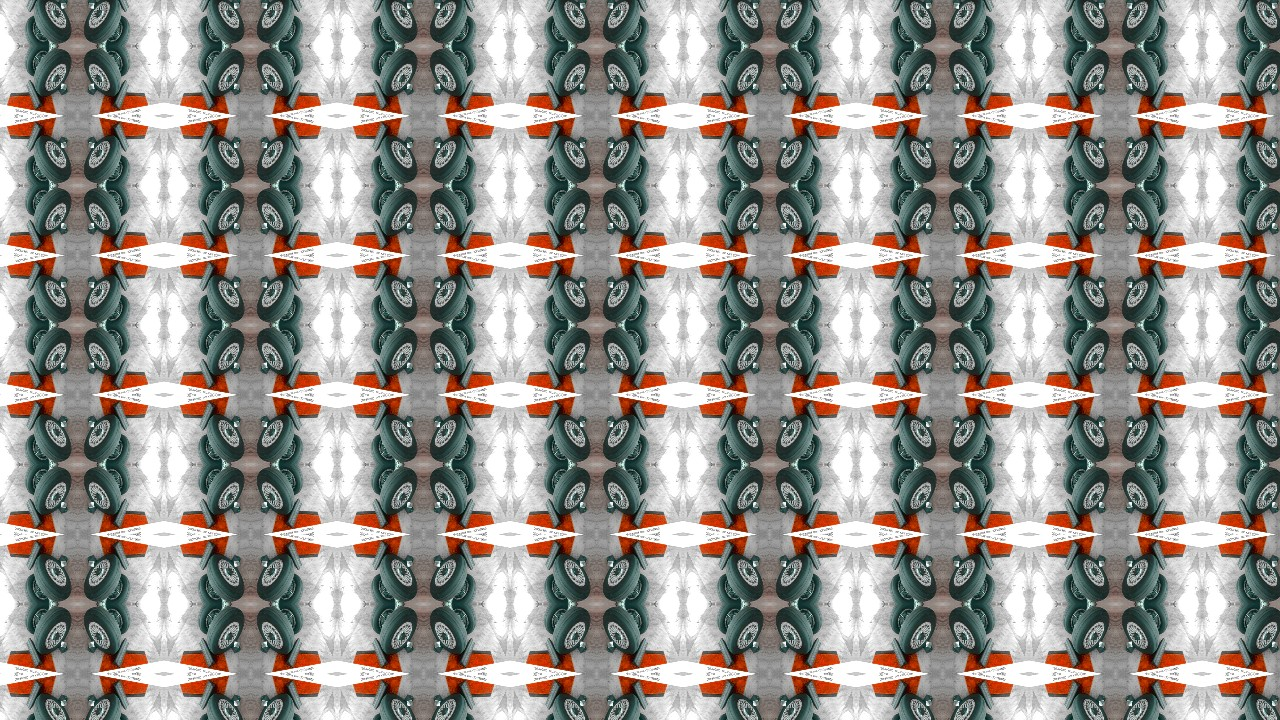chock: (20, 78, 45, 110), (107, 78, 132, 110), (194, 78, 219, 110), (280, 78, 305, 110), (367, 78, 392, 110), (454, 78, 479, 110), (541, 78, 566, 110), (627, 78, 652, 110), (714, 78, 739, 110), (801, 78, 826, 110), (888, 78, 913, 110), (974, 78, 999, 110), (1061, 78, 1086, 110), (1148, 78, 1173, 110), (1235, 78, 1260, 110), (20, 120, 45, 152), (107, 120, 132, 152), (194, 120, 219, 152), (280, 120, 305, 152), (367, 120, 392, 152), (454, 120, 479, 152), (541, 120, 566, 152), (627, 120, 652, 152), (714, 120, 739, 152), (801, 120, 826, 152), (888, 120, 913, 152), (974, 120, 999, 152), (1061, 120, 1086, 152), (1148, 120, 1173, 152), (1235, 120, 1260, 152), (20, 218, 45, 250), (107, 218, 132, 250), (194, 218, 219, 250), (280, 218, 305, 250), (367, 218, 392, 250), (454, 218, 479, 250), (541, 218, 566, 250), (627, 218, 652, 250), (714, 218, 739, 250), (801, 218, 826, 250), (888, 218, 913, 250), (974, 218, 999, 250), (1061, 218, 1086, 250), (1148, 218, 1173, 250), (1235, 218, 1260, 250), (20, 260, 45, 292), (107, 260, 132, 292), (194, 260, 219, 292), (280, 260, 305, 292), (367, 260, 392, 292), (454, 260, 479, 292), (541, 260, 566, 292), (627, 260, 652, 292), (714, 260, 739, 292), (801, 260, 826, 292), (888, 260, 913, 292), (974, 260, 999, 292), (1061, 260, 1086, 292), (1148, 260, 1173, 292), (1235, 260, 1260, 292), (20, 358, 45, 390), (107, 358, 132, 390), (194, 358, 219, 390), (280, 358, 305, 390), (367, 358, 392, 390), (454, 358, 479, 390), (541, 358, 566, 390), (627, 358, 652, 390), (714, 358, 739, 390), (801, 358, 826, 390), (888, 358, 913, 390), (974, 358, 999, 390), (1061, 358, 1086, 390), (1148, 358, 1173, 390), (1235, 358, 1260, 390), (20, 400, 45, 432), (107, 400, 132, 432), (194, 400, 219, 432), (280, 400, 305, 432), (367, 400, 392, 432), (454, 400, 479, 432), (541, 400, 566, 432), (627, 400, 652, 432), (714, 400, 739, 432), (801, 400, 826, 432), (888, 400, 913, 432), (974, 400, 999, 432), (1061, 400, 1086, 432), (1148, 400, 1173, 432), (1235, 400, 1260, 432), (20, 498, 45, 530), (107, 498, 132, 530), (194, 498, 219, 530), (280, 498, 305, 530), (367, 498, 392, 530), (454, 498, 479, 530), (541, 498, 566, 530), (627, 498, 652, 530), (714, 498, 739, 530), (801, 498, 826, 530), (888, 498, 913, 530), (974, 498, 999, 530), (1061, 498, 1086, 530), (1148, 498, 1173, 530), (1235, 498, 1260, 530), (20, 540, 45, 572), (107, 540, 132, 572), (194, 540, 219, 572), (280, 540, 305, 572), (367, 540, 392, 572), (454, 540, 479, 572), (541, 540, 566, 572), (627, 540, 652, 572), (714, 540, 739, 572), (801, 540, 826, 572), (888, 540, 913, 572), (974, 540, 999, 572), (1061, 540, 1086, 572), (1148, 540, 1173, 572), (1235, 540, 1260, 572), (20, 638, 45, 670), (107, 638, 132, 670), (194, 638, 219, 670), (280, 638, 305, 670), (367, 638, 392, 670), (454, 638, 479, 670), (541, 638, 566, 670), (627, 638, 652, 670), (714, 638, 739, 670), (801, 638, 826, 670), (888, 638, 913, 670), (974, 638, 999, 670), (1061, 638, 1086, 670), (1148, 638, 1173, 670), (1235, 638, 1260, 670), (20, 680, 45, 712), (107, 680, 132, 712), (194, 680, 219, 712), (280, 680, 305, 712), (367, 680, 392, 712), (454, 680, 479, 712), (541, 680, 566, 712), (627, 680, 652, 712), (714, 680, 739, 712), (801, 680, 826, 712), (888, 680, 913, 712), (974, 680, 999, 712), (1061, 680, 1086, 712), (1148, 680, 1173, 712), (1235, 680, 1260, 712), (20, 0, 45, 12), (107, 0, 132, 12), (194, 0, 219, 12), (280, 0, 305, 12), (367, 0, 392, 12), (454, 0, 479, 12), (541, 0, 566, 12), (627, 0, 652, 12), (714, 0, 739, 12), (801, 0, 826, 12), (888, 0, 913, 12), (974, 0, 999, 12), (1061, 0, 1086, 12), (1148, 0, 1173, 12), (1235, 0, 1260, 12), (51, 79, 68, 95), (84, 79, 101, 95), (398, 79, 415, 95), (431, 79, 448, 95), (745, 79, 762, 95), (778, 79, 795, 95), (1092, 79, 1109, 95), (1125, 79, 1142, 95), (51, 135, 68, 151), (84, 135, 101, 151), (398, 135, 415, 151), (431, 135, 448, 151), (745, 135, 762, 151), (778, 135, 795, 151), (1092, 135, 1109, 151), (1125, 135, 1142, 151), (51, 219, 68, 235), (84, 219, 101, 235), (398, 219, 415, 235), (431, 219, 448, 235), (745, 219, 762, 235), (778, 219, 795, 235), (1092, 219, 1109, 235), (1125, 219, 1142, 235), (51, 275, 68, 291), (84, 275, 101, 291), (398, 275, 415, 291), (431, 275, 448, 291), (745, 275, 762, 291), (778, 275, 795, 291), (1092, 275, 1109, 291), (1125, 275, 1142, 291), (51, 359, 68, 375), (84, 359, 101, 375), (398, 359, 415, 375), (431, 359, 448, 375), (745, 359, 762, 375), (778, 359, 795, 375), (1092, 359, 1109, 375), (1125, 359, 1142, 375), (51, 415, 68, 431), (84, 415, 101, 431), (398, 415, 415, 431), (431, 415, 448, 431), (745, 415, 762, 431), (778, 415, 795, 431), (1092, 415, 1109, 431), (1125, 415, 1142, 431), (51, 499, 68, 515), (84, 499, 101, 515), (398, 499, 415, 515), (431, 499, 448, 515), (745, 499, 762, 515), (778, 499, 795, 515), (1092, 499, 1109, 515), (1125, 499, 1142, 515), (51, 555, 68, 571), (84, 555, 101, 571), (398, 555, 415, 571), (431, 555, 448, 571), (745, 555, 762, 571), (778, 555, 795, 571), (1092, 555, 1109, 571), (1125, 555, 1142, 571), (51, 639, 68, 655), (84, 639, 101, 655), (398, 639, 415, 655), (431, 639, 448, 655), (745, 639, 762, 655), (778, 639, 795, 655), (1092, 639, 1109, 655), (1125, 639, 1142, 655), (51, 695, 68, 711), (84, 695, 101, 711), (398, 695, 415, 711), (431, 695, 448, 711), (745, 695, 762, 711), (778, 695, 795, 711), (1092, 695, 1109, 711), (1125, 695, 1142, 711), (225, 79, 241, 95), (258, 79, 274, 95), (572, 79, 588, 95), (605, 79, 621, 95), (919, 79, 935, 95), (952, 79, 968, 95), (225, 135, 241, 151), (258, 135, 274, 151), (572, 135, 588, 151), (605, 135, 621, 151), (919, 135, 935, 151), (952, 135, 968, 151), (225, 219, 241, 235), (258, 219, 274, 235), (572, 219, 588, 235), (605, 219, 621, 235), (919, 219, 935, 235), (952, 219, 968, 235), (225, 275, 241, 291), (258, 275, 274, 291), (572, 275, 588, 291), (605, 275, 621, 291), (919, 275, 935, 291), (952, 275, 968, 291), (225, 359, 241, 375), (258, 359, 274, 375), (572, 359, 588, 375), (605, 359, 621, 375), (919, 359, 935, 375), (952, 359, 968, 375), (225, 415, 241, 431), (258, 415, 274, 431), (572, 415, 588, 431), (605, 415, 621, 431), (919, 415, 935, 431), (952, 415, 968, 431), (225, 499, 241, 515), (258, 499, 274, 515), (572, 499, 588, 515), (605, 499, 621, 515), (919, 499, 935, 515), (952, 499, 968, 515), (225, 555, 241, 571), (258, 555, 274, 571), (572, 555, 588, 571), (605, 555, 621, 571), (919, 555, 935, 571), (952, 555, 968, 571), (225, 639, 241, 655), (258, 639, 274, 655), (572, 639, 588, 655), (605, 639, 621, 655), (919, 639, 935, 655), (952, 639, 968, 655), (225, 695, 241, 711), (258, 695, 274, 711), (572, 695, 588, 711), (605, 695, 621, 711), (919, 695, 935, 711), (952, 695, 968, 711), (1266, 79, 1280, 95), (1266, 135, 1280, 151), (1266, 219, 1280, 235), (1266, 275, 1280, 291), (1266, 359, 1280, 375), (1266, 415, 1280, 431), (1266, 499, 1280, 515), (1266, 555, 1280, 571), (1266, 639, 1280, 655), (1266, 695, 1280, 711), (51, 0, 68, 11), (84, 0, 101, 11), (398, 0, 415, 11), (431, 0, 448, 11), (745, 0, 762, 11), (778, 0, 795, 11), (1092, 0, 1109, 11), (1125, 0, 1142, 11), (225, 0, 241, 11), (258, 0, 274, 11), (572, 0, 588, 11), (605, 0, 621, 11), (919, 0, 935, 11), (952, 0, 968, 11), (1266, 0, 1280, 11), (232, 1, 239, 8), (260, 1, 267, 8), (579, 1, 586, 8), (607, 1, 614, 8), (926, 1, 933, 8), (954, 1, 961, 8), (1273, 1, 1280, 8), (232, 82, 239, 89), (260, 82, 267, 89), (579, 82, 586, 89), (607, 82, 614, 89), (926, 82, 933, 89), (954, 82, 961, 89), (1273, 82, 1280, 89), (232, 141, 239, 148), (260, 141, 267, 148), (579, 141, 586, 148), (607, 141, 614, 148), (926, 141, 933, 148), (954, 141, 961, 148), (1273, 141, 1280, 148), (232, 222, 239, 229), (260, 222, 267, 229), (579, 222, 586, 229), (607, 222, 614, 229), (926, 222, 933, 229), (954, 222, 961, 229), (1273, 222, 1280, 229), (232, 281, 239, 288), (260, 281, 267, 288), (579, 281, 586, 288), (607, 281, 614, 288), (926, 281, 933, 288), (954, 281, 961, 288), (1273, 281, 1280, 288), (232, 362, 239, 369), (260, 362, 267, 369), (579, 362, 586, 369), (607, 362, 614, 369), (926, 362, 933, 369), (954, 362, 961, 369), (1273, 362, 1280, 369), (232, 421, 239, 428), (260, 421, 267, 428), (579, 421, 586, 428), (607, 421, 614, 428), (926, 421, 933, 428), (954, 421, 961, 428), (1273, 421, 1280, 428), (232, 502, 239, 509), (260, 502, 267, 509), (579, 502, 586, 509), (607, 502, 614, 509), (926, 502, 933, 509), (954, 502, 961, 509), (1273, 502, 1280, 509), (232, 561, 239, 568), (260, 561, 267, 568), (579, 561, 586, 568), (607, 561, 614, 568), (926, 561, 933, 568), (954, 561, 961, 568), (1273, 561, 1280, 568), (232, 642, 239, 649), (260, 642, 267, 649), (579, 642, 586, 649), (607, 642, 614, 649), (926, 642, 933, 649), (954, 642, 961, 649), (1273, 642, 1280, 649), (232, 701, 239, 708), (260, 701, 267, 708), (579, 701, 586, 708), (607, 701, 614, 708), (926, 701, 933, 708), (954, 701, 961, 708), (1273, 701, 1280, 708), (59, 1, 65, 8), (87, 1, 93, 8), (406, 1, 412, 8), (434, 1, 440, 8), (753, 1, 759, 8), (781, 1, 787, 8), (1100, 1, 1106, 8), (1128, 1, 1134, 8), (59, 82, 65, 89), (87, 82, 93, 89), (406, 82, 412, 89), (434, 82, 440, 89), (753, 82, 759, 89), (781, 82, 787, 89), (1100, 82, 1106, 89), (1128, 82, 1134, 89), (59, 141, 65, 148), (87, 141, 93, 148), (406, 141, 412, 148), (434, 141, 440, 148), (753, 141, 759, 148), (781, 141, 787, 148), (1100, 141, 1106, 148), (1128, 141, 1134, 148), (59, 222, 65, 229), (87, 222, 93, 229), (406, 222, 412, 229), (434, 222, 440, 229), (753, 222, 759, 229), (781, 222, 787, 229), (1100, 222, 1106, 229), (1128, 222, 1134, 229), (59, 281, 65, 288), (87, 281, 93, 288), (406, 281, 412, 288), (434, 281, 440, 288), (753, 281, 759, 288), (781, 281, 787, 288), (1100, 281, 1106, 288), (1128, 281, 1134, 288), (59, 362, 65, 369), (87, 362, 93, 369), (406, 362, 412, 369), (434, 362, 440, 369), (753, 362, 759, 369), (781, 362, 787, 369), (1100, 362, 1106, 369), (1128, 362, 1134, 369), (59, 421, 65, 428), (87, 421, 93, 428), (406, 421, 412, 428), (434, 421, 440, 428), (753, 421, 759, 428), (781, 421, 787, 428), (1100, 421, 1106, 428), (1128, 421, 1134, 428), (59, 502, 65, 509), (87, 502, 93, 509), (406, 502, 412, 509), (434, 502, 440, 509), (753, 502, 759, 509), (781, 502, 787, 509), (1100, 502, 1106, 509), (1128, 502, 1134, 509), (59, 561, 65, 568), (87, 561, 93, 568), (406, 561, 412, 568), (434, 561, 440, 568), (753, 561, 759, 568), (781, 561, 787, 568), (1100, 561, 1106, 568), (1128, 561, 1134, 568), (59, 642, 65, 649), (87, 642, 93, 649), (406, 642, 412, 649), (434, 642, 440, 649), (753, 642, 759, 649), (781, 642, 787, 649), (1100, 642, 1106, 649), (1128, 642, 1134, 649), (59, 701, 65, 708), (87, 701, 93, 708), (406, 701, 412, 708), (434, 701, 440, 708), (753, 701, 759, 708), (781, 701, 787, 708), (1100, 701, 1106, 708), (1128, 701, 1134, 708)
wheel: (204, 45, 246, 99), (253, 45, 295, 99), (551, 45, 593, 99), (600, 45, 642, 99), (898, 45, 940, 99), (947, 45, 989, 99), (204, 131, 246, 185), (253, 131, 295, 185), (551, 131, 593, 185), (600, 131, 642, 185), (898, 131, 940, 185), (947, 131, 989, 185), (204, 185, 246, 239), (253, 185, 295, 239), (551, 185, 593, 239), (600, 185, 642, 239), (898, 185, 940, 239), (947, 185, 989, 239), (204, 271, 246, 325), (253, 271, 295, 325), (551, 271, 593, 325), (600, 271, 642, 325), (898, 271, 940, 325), (947, 271, 989, 325), (204, 325, 246, 379), (253, 325, 295, 379), (551, 325, 593, 379), (600, 325, 642, 379), (898, 325, 940, 379), (947, 325, 989, 379), (204, 411, 246, 465), (253, 411, 295, 465), (551, 411, 593, 465), (600, 411, 642, 465), (898, 411, 940, 465), (947, 411, 989, 465), (204, 465, 246, 519), (253, 465, 295, 519), (551, 465, 593, 519), (600, 465, 642, 519), (898, 465, 940, 519), (947, 465, 989, 519), (204, 551, 246, 605), (253, 551, 295, 605), (551, 551, 593, 605), (600, 551, 642, 605), (898, 551, 940, 605), (947, 551, 989, 605), (204, 605, 246, 659), (253, 605, 295, 659), (551, 605, 593, 659), (600, 605, 642, 659), (898, 605, 940, 659), (947, 605, 989, 659), (31, 45, 72, 99), (80, 45, 121, 99), (378, 45, 419, 99), (427, 45, 468, 99), (725, 45, 766, 99), (774, 45, 815, 99), (1072, 45, 1113, 99), (1121, 45, 1162, 99), (31, 131, 72, 185), (80, 131, 121, 185), (378, 131, 419, 185), (427, 131, 468, 185), (725, 131, 766, 185), (774, 131, 815, 185), (1072, 131, 1113, 185), (1121, 131, 1162, 185), (31, 185, 72, 239), (80, 185, 121, 239), (378, 185, 419, 239), (427, 185, 468, 239), (725, 185, 766, 239), (774, 185, 815, 239), (1072, 185, 1113, 239), (1121, 185, 1162, 239), (31, 271, 72, 325), (80, 271, 121, 325), (378, 271, 419, 325), (427, 271, 468, 325), (725, 271, 766, 325), (774, 271, 815, 325), (1072, 271, 1113, 325), (1121, 271, 1162, 325), (31, 325, 72, 379), (80, 325, 121, 379), (378, 325, 419, 379), (427, 325, 468, 379), (725, 325, 766, 379), (774, 325, 815, 379), (1072, 325, 1113, 379), (1121, 325, 1162, 379), (31, 411, 72, 465), (80, 411, 121, 465), (378, 411, 419, 465), (427, 411, 468, 465), (725, 411, 766, 465), (774, 411, 815, 465), (1072, 411, 1113, 465), (1121, 411, 1162, 465), (31, 465, 72, 519), (80, 465, 121, 519), (378, 465, 419, 519), (427, 465, 468, 519), (725, 465, 766, 519), (774, 465, 815, 519), (1072, 465, 1113, 519), (1121, 465, 1162, 519), (31, 551, 72, 605), (80, 551, 121, 605), (378, 551, 419, 605), (427, 551, 468, 605), (725, 551, 766, 605), (774, 551, 815, 605), (1072, 551, 1113, 605), (1121, 551, 1162, 605), (31, 605, 72, 659), (80, 605, 121, 659), (378, 605, 419, 659), (427, 605, 468, 659), (725, 605, 766, 659), (774, 605, 815, 659), (1072, 605, 1113, 659), (1121, 605, 1162, 659), (204, 0, 246, 45), (253, 0, 295, 45), (551, 0, 593, 45), (600, 0, 642, 45), (898, 0, 940, 45), (947, 0, 989, 45), (1245, 45, 1280, 99), (1245, 131, 1280, 185), (1245, 185, 1280, 239), (1245, 271, 1280, 325), (1245, 325, 1280, 379), (1245, 411, 1280, 465), (1245, 465, 1280, 519), (1245, 551, 1280, 605), (1245, 605, 1280, 659), (31, 0, 72, 45), (80, 0, 121, 45), (378, 0, 419, 45), (427, 0, 468, 45), (725, 0, 766, 45), (774, 0, 815, 45), (1072, 0, 1113, 45), (1121, 0, 1162, 45), (1245, 0, 1280, 45), (204, 691, 246, 720), (253, 691, 295, 720), (551, 691, 593, 720), (600, 691, 642, 720), (898, 691, 940, 720), (947, 691, 989, 720), (31, 691, 72, 720), (80, 691, 121, 720), (378, 691, 419, 720), (427, 691, 468, 720), (725, 691, 766, 720), (774, 691, 815, 720), (1072, 691, 1113, 720), (1121, 691, 1162, 720), (1245, 691, 1280, 720), (21, 12, 50, 45), (102, 12, 131, 45), (194, 12, 223, 45), (276, 12, 305, 45), (368, 12, 397, 45), (449, 12, 478, 45), (541, 12, 570, 45), (623, 12, 652, 45), (715, 12, 744, 45), (796, 12, 825, 45), (888, 12, 917, 45), (970, 12, 999, 45), (1062, 12, 1091, 45), (1143, 12, 1172, 45), (1235, 12, 1264, 45), (21, 45, 50, 78), (102, 45, 131, 78), (194, 45, 223, 78), (276, 45, 305, 78), (368, 45, 397, 78), (449, 45, 478, 78), (541, 45, 570, 78), (623, 45, 652, 78), (715, 45, 744, 78), (796, 45, 825, 78), (888, 45, 917, 78), (970, 45, 999, 78), (1062, 45, 1091, 78), (1143, 45, 1172, 78), (1235, 45, 1264, 78), (21, 152, 50, 185), (102, 152, 131, 185), (194, 152, 223, 185), (276, 152, 305, 185), (368, 152, 397, 185), (449, 152, 478, 185), (541, 152, 570, 185), (623, 152, 652, 185), (715, 152, 744, 185), (796, 152, 825, 185), (888, 152, 917, 185), (970, 152, 999, 185), (1062, 152, 1091, 185), (1143, 152, 1172, 185), (1235, 152, 1264, 185), (21, 185, 50, 218), (102, 185, 131, 218), (194, 185, 223, 218), (276, 185, 305, 218), (368, 185, 397, 218), (449, 185, 478, 218), (541, 185, 570, 218), (623, 185, 652, 218), (715, 185, 744, 218), (796, 185, 825, 218), (888, 185, 917, 218), (970, 185, 999, 218), (1062, 185, 1091, 218), (1143, 185, 1172, 218), (1235, 185, 1264, 218), (21, 292, 50, 325), (102, 292, 131, 325), (194, 292, 223, 325), (276, 292, 305, 325), (368, 292, 397, 325), (449, 292, 478, 325), (541, 292, 570, 325), (623, 292, 652, 325), (715, 292, 744, 325), (796, 292, 825, 325), (888, 292, 917, 325), (970, 292, 999, 325), (1062, 292, 1091, 325), (1143, 292, 1172, 325), (1235, 292, 1264, 325), (21, 325, 50, 358), (102, 325, 131, 358), (194, 325, 223, 358), (276, 325, 305, 358), (368, 325, 397, 358), (449, 325, 478, 358), (541, 325, 570, 358), (623, 325, 652, 358), (715, 325, 744, 358), (796, 325, 825, 358), (888, 325, 917, 358), (970, 325, 999, 358), (1062, 325, 1091, 358), (1143, 325, 1172, 358), (1235, 325, 1264, 358), (21, 432, 50, 465), (102, 432, 131, 465), (194, 432, 223, 465), (276, 432, 305, 465), (368, 432, 397, 465), (449, 432, 478, 465), (541, 432, 570, 465), (623, 432, 652, 465), (715, 432, 744, 465), (796, 432, 825, 465), (888, 432, 917, 465), (970, 432, 999, 465), (1062, 432, 1091, 465), (1143, 432, 1172, 465), (1235, 432, 1264, 465), (21, 465, 50, 498), (102, 465, 131, 498), (194, 465, 223, 498), (276, 465, 305, 498), (368, 465, 397, 498), (449, 465, 478, 498), (541, 465, 570, 498), (623, 465, 652, 498), (715, 465, 744, 498), (796, 465, 825, 498), (888, 465, 917, 498), (970, 465, 999, 498), (1062, 465, 1091, 498), (1143, 465, 1172, 498), (1235, 465, 1264, 498), (21, 572, 50, 605), (102, 572, 131, 605), (194, 572, 223, 605), (276, 572, 305, 605), (368, 572, 397, 605), (449, 572, 478, 605), (541, 572, 570, 605), (623, 572, 652, 605), (715, 572, 744, 605), (796, 572, 825, 605), (888, 572, 917, 605), (970, 572, 999, 605), (1062, 572, 1091, 605), (1143, 572, 1172, 605), (1235, 572, 1264, 605), (21, 605, 50, 638), (102, 605, 131, 638), (194, 605, 223, 638), (276, 605, 305, 638), (368, 605, 397, 638), (449, 605, 478, 638), (541, 605, 570, 638), (623, 605, 652, 638), (715, 605, 744, 638), (796, 605, 825, 638), (888, 605, 917, 638), (970, 605, 999, 638), (1062, 605, 1091, 638), (1143, 605, 1172, 638), (1235, 605, 1264, 638), (21, 712, 50, 720), (102, 712, 131, 720), (194, 712, 223, 720), (276, 712, 305, 720), (368, 712, 397, 720), (449, 712, 478, 720), (541, 712, 570, 720), (623, 712, 652, 720), (715, 712, 744, 720), (796, 712, 825, 720), (888, 712, 917, 720), (970, 712, 999, 720), (1062, 712, 1091, 720), (1143, 712, 1172, 720), (1235, 712, 1264, 720)
